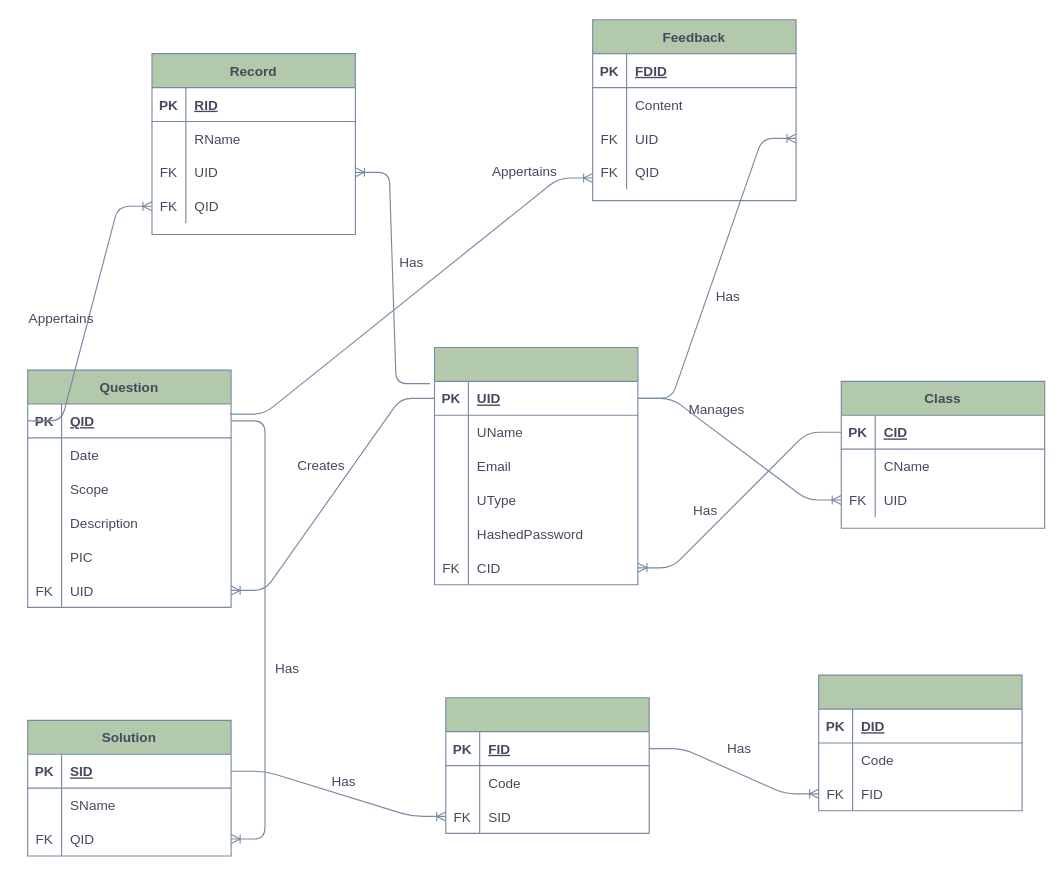
Some shapes in this 1064 by 876 pixel diagram are drawn without their labels. Each missing label, with the box of its shape:
Distractor: (818, 674, 1022, 811)
Fragment: (445, 697, 649, 833)
User: (433, 346, 638, 585)
